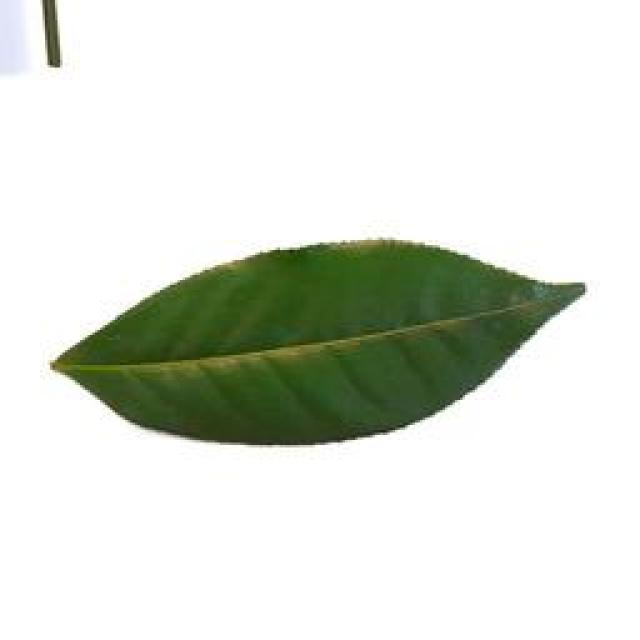Healthy: (54, 234, 592, 472)
